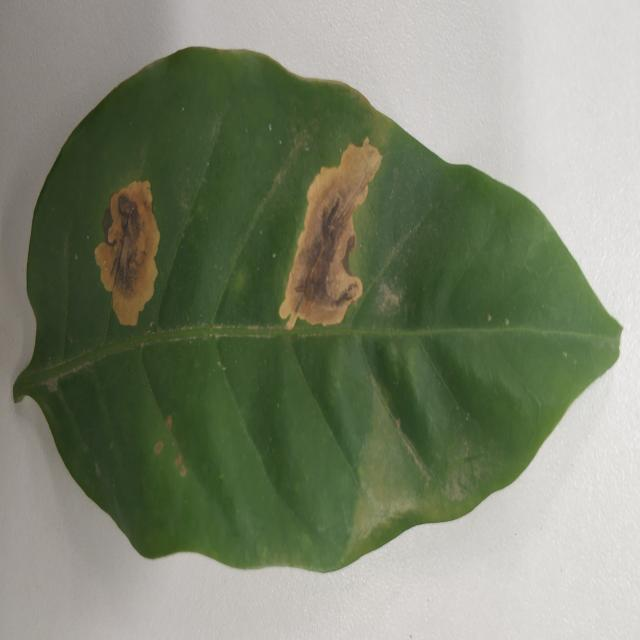Plaga-Minador: (14, 47, 622, 576)
